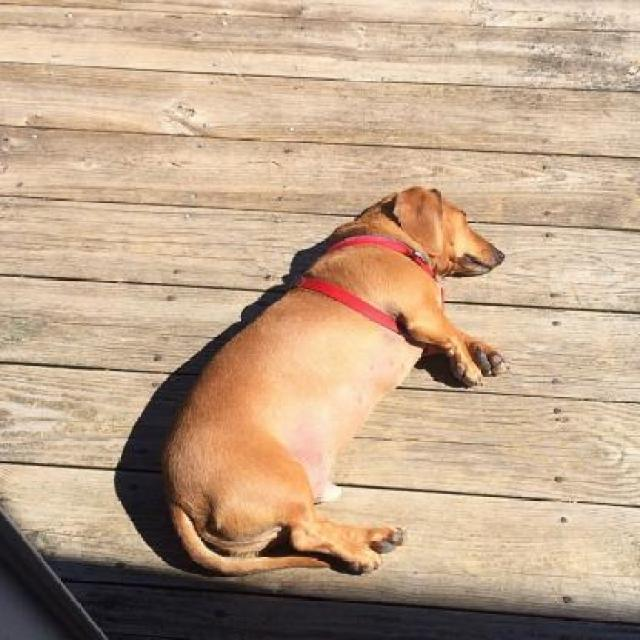Dog: (165, 170, 509, 576)
